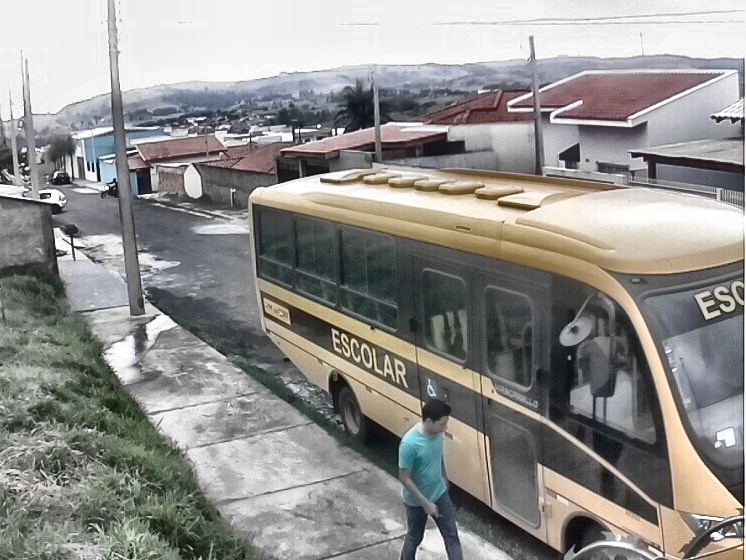person: (396, 397, 465, 560)
